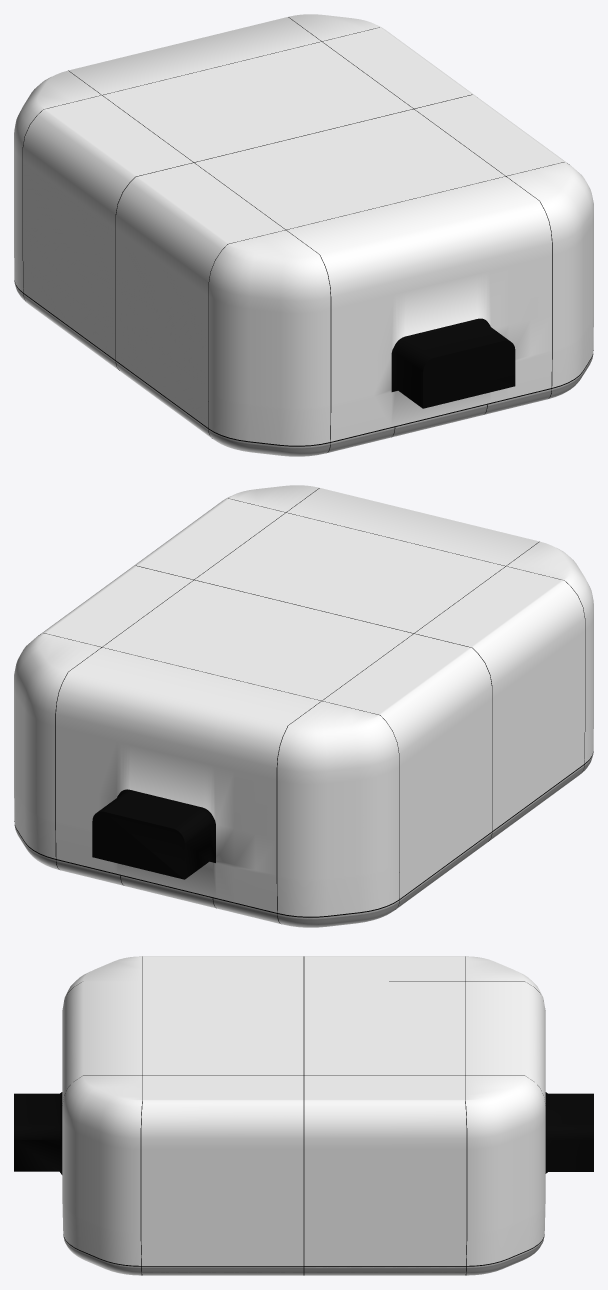
The model's file is CustomArena.fbx.
3 renders of one model, top to bottom at view 1: azimuth 30°, elevation 25°; view 2: azimuth 150°, elevation 25°; view 3: azimuth 270°, elevation 25°, orthographic. The views are drawn at different scales.
Parts seen in each view (by area): view 1: GoalSize5, Court1v1Merged; view 2: GoalSize5, Court1v1Merged; view 3: GoalSize5, Court1v1Merged.
Part boxes in pixels (bbox=[...]): GoalSize5: bbox=[14, 14, 593, 445]; Court1v1Merged: bbox=[14, 280, 593, 456]; GoalSize5: bbox=[14, 485, 593, 916]; Court1v1Merged: bbox=[14, 751, 593, 927]; GoalSize5: bbox=[14, 956, 593, 1265]; Court1v1Merged: bbox=[63, 1234, 544, 1275].
Bounding box in the file's own units: 6269 × 3118 × 9538.
